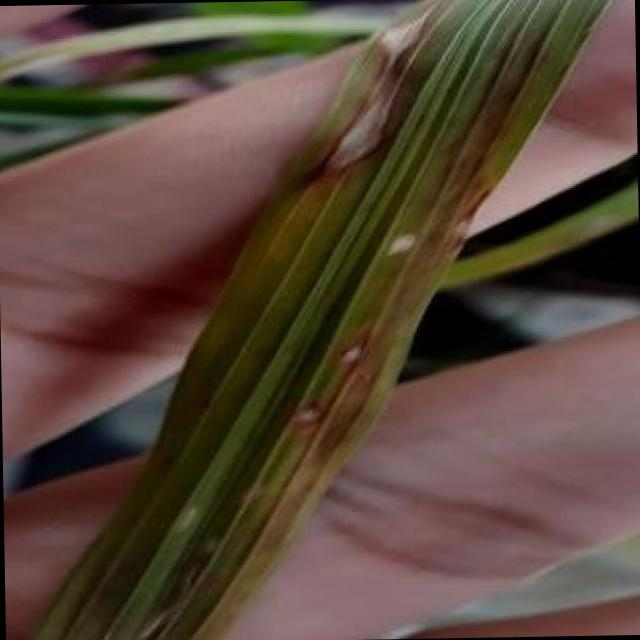Rice_Blast: (279, 73, 416, 178), (342, 0, 459, 91), (259, 390, 343, 444), (322, 329, 398, 386), (376, 214, 428, 264)
